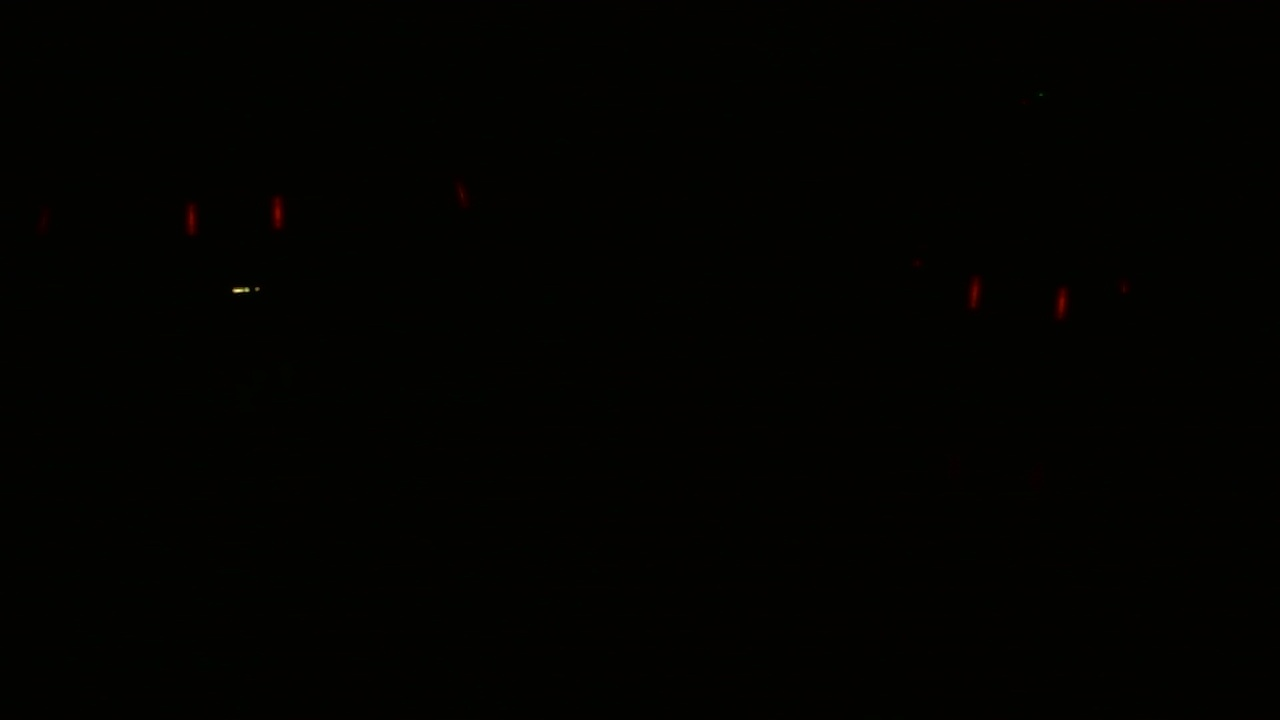pair1: (966, 273, 1068, 316), (180, 197, 287, 233)
